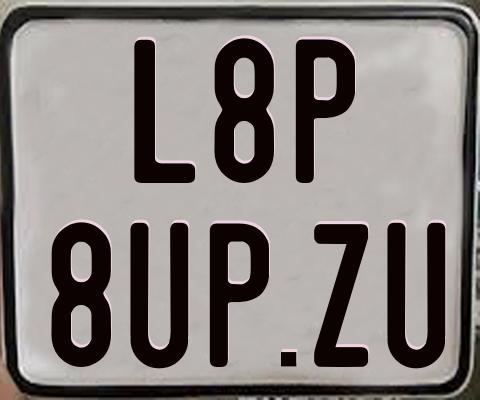8: (49, 221, 111, 368), (214, 37, 276, 183)
L: (131, 40, 193, 189)
P: (296, 37, 361, 185), (208, 221, 268, 365)
U: (129, 223, 193, 375), (387, 221, 447, 370)
Z: (314, 222, 371, 368)
